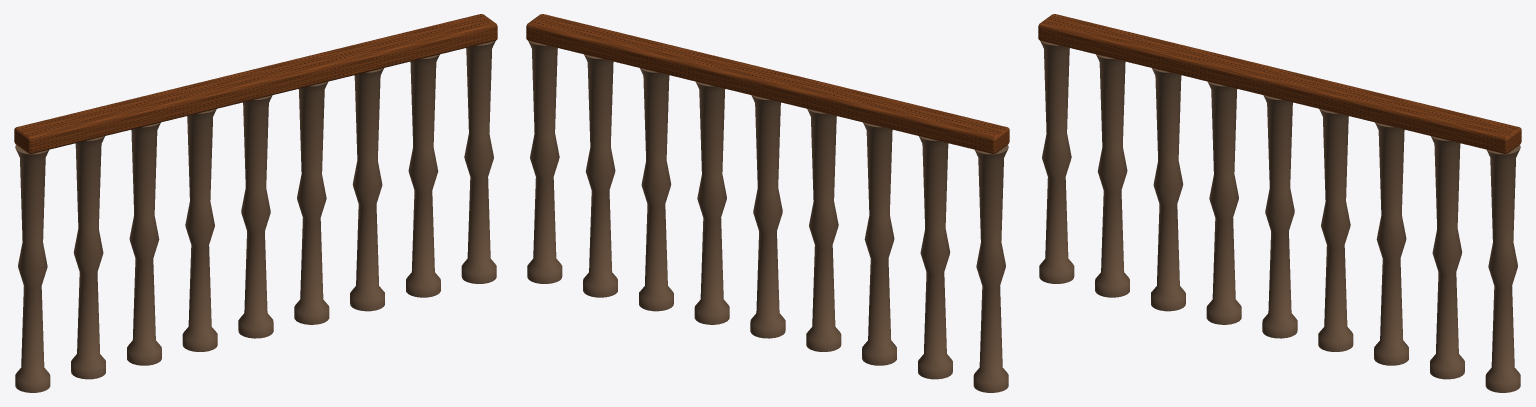
The model's file is adventurers-tavern-and-guild-hall-mezzanine-rail-f3f86c69__24672.glb.
3 views of the same model, side by side, from view 1: azimuth 30°, elevation 25°; view 2: azimuth 150°, elevation 25°; view 3: azimuth 330°, elevation 25° (orthographic).
Visible parts, largest first — view 1: mezzanine-rail; view 2: mezzanine-rail; view 3: mezzanine-rail.
Part boxes in pixels (x1,y1,x2,y2): mezzanine-rail: (14,14,497,392); mezzanine-rail: (526,14,1009,392); mezzanine-rail: (1038,14,1521,392).
Size of the model in its own units: 2.03 by 1.04 by 0.1301.
2 materials, 1 textured.
